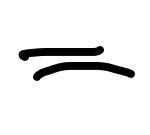eqv: (18, 46, 135, 81)
